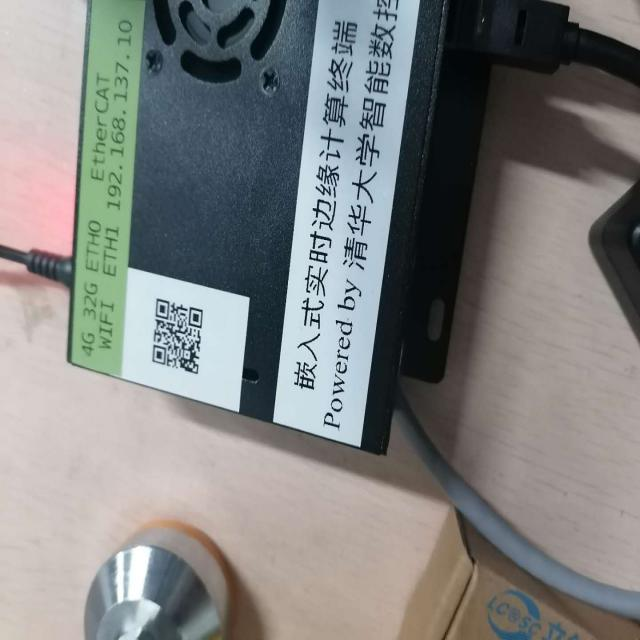qr_code: (151, 297, 204, 376)
